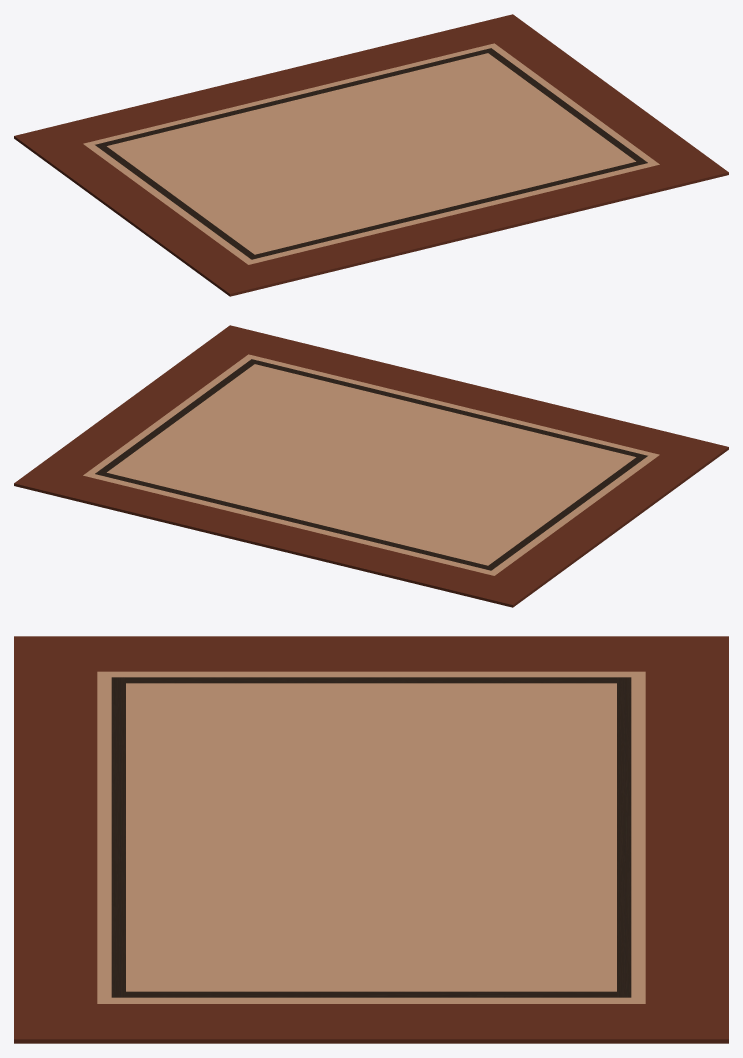
File: rug.glb
3 views of the same model, one above another, from view 1: azimuth 30°, elevation 25°; view 2: azimuth 150°, elevation 25°; view 3: azimuth 270°, elevation 25° (orthographic). The views are drawn at different scales.
Parts seen in each view (by area): view 1: rug; view 2: rug; view 3: rug.
Boxes of the visible parts, left/top/right/bottom form: rug: left=14, top=14, right=728, bottom=296; rug: left=14, top=325, right=728, bottom=607; rug: left=14, top=636, right=728, bottom=1043.
Bounding box in the file's own units: 4 × 0.022 × 3.
Materials: 3 (1 with a texture image).
